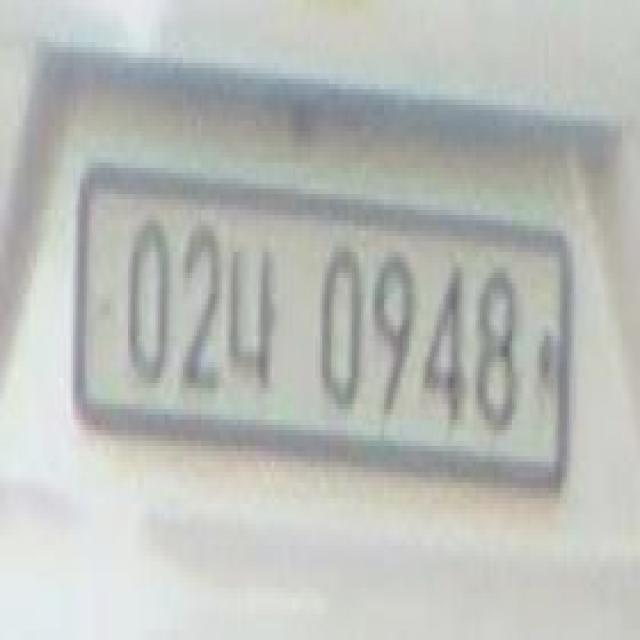illegal_plate: (79, 158, 572, 520)
